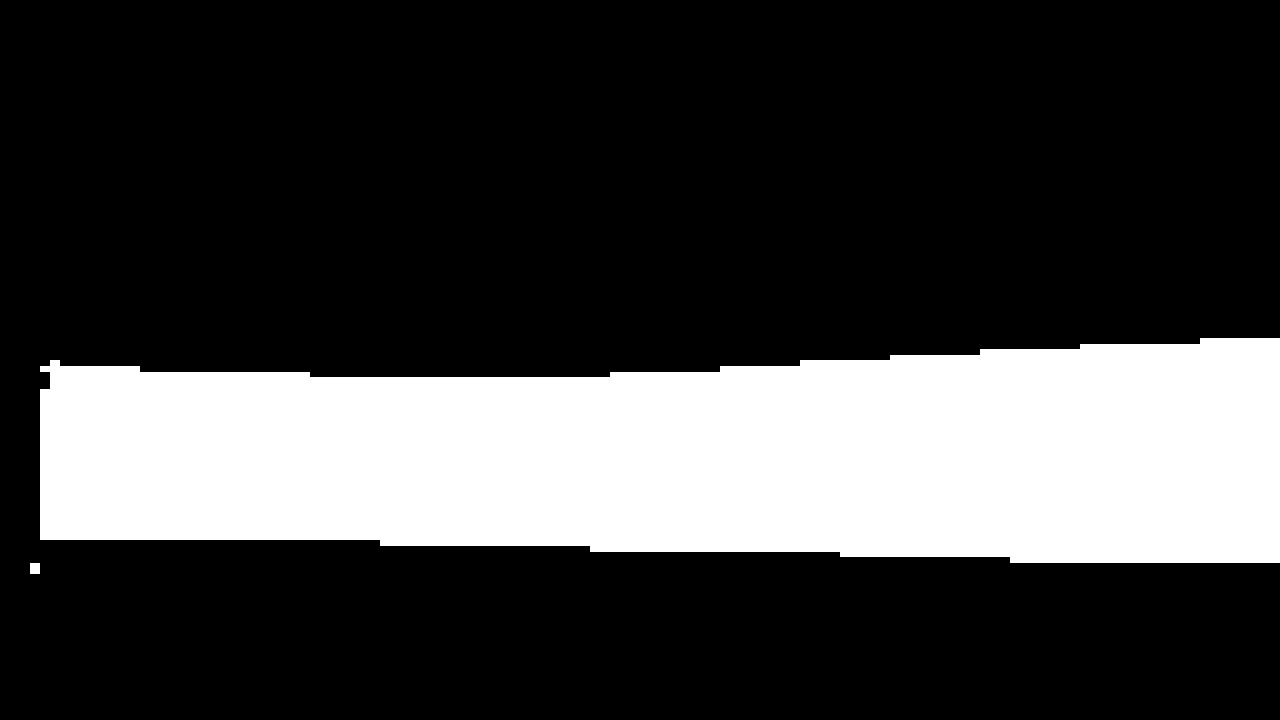Turbine: (42, 327, 1277, 562)
